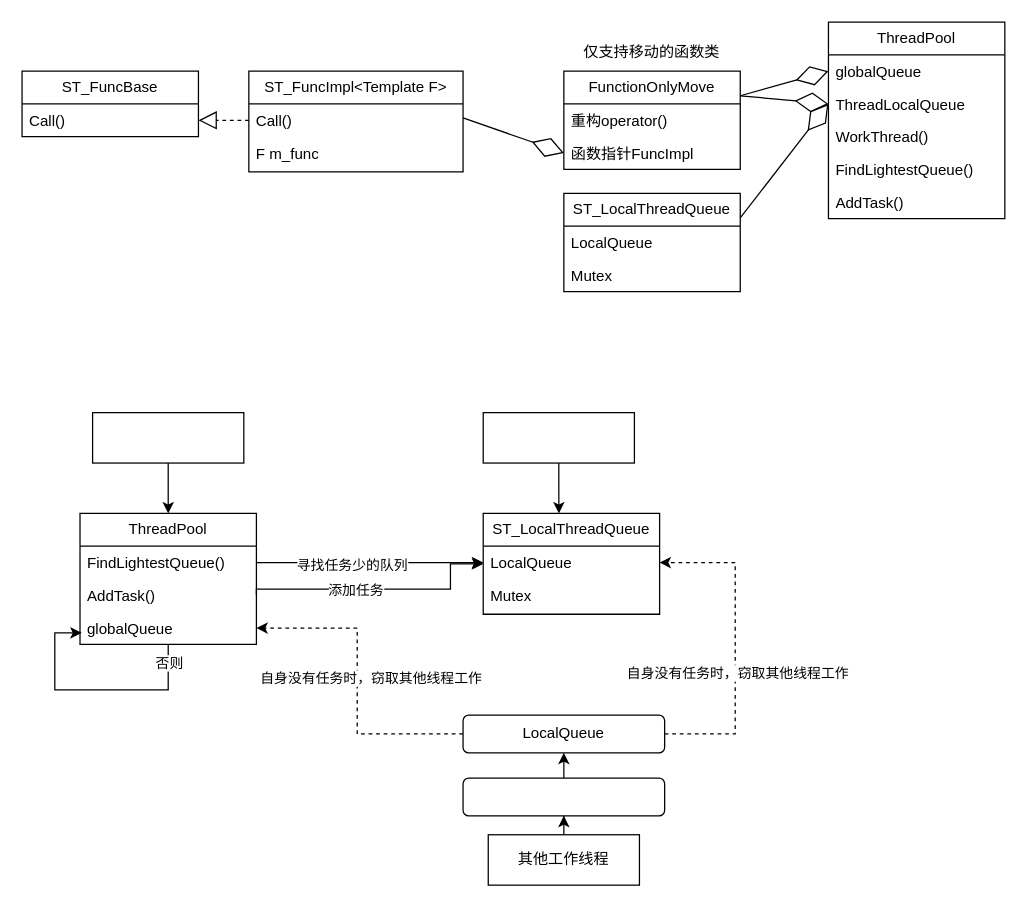
Some shapes in this 1027 by 907 pixel diagram are drawn without their labels. The shapes that lost their labels are listed below. From the top down, each one's centre as x and y in pixels, then its label:
At point (167, 437): "外部线程".
At point (558, 437): "工作线程".
At point (563, 796): "ThreadPool::WorkThread()".
